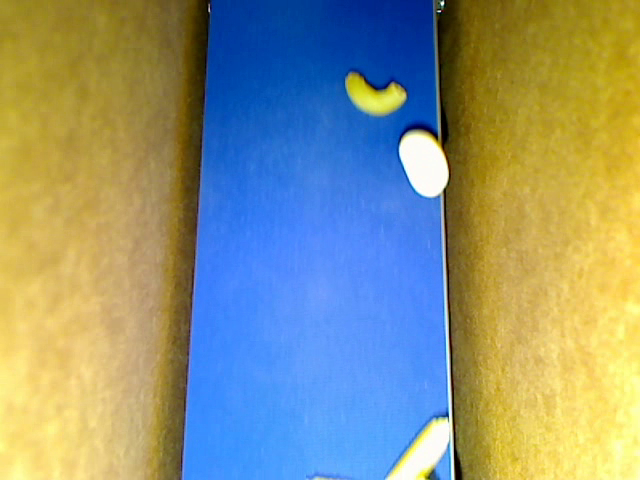elbow: (345, 71, 406, 118)
penne: (383, 416, 450, 479)
